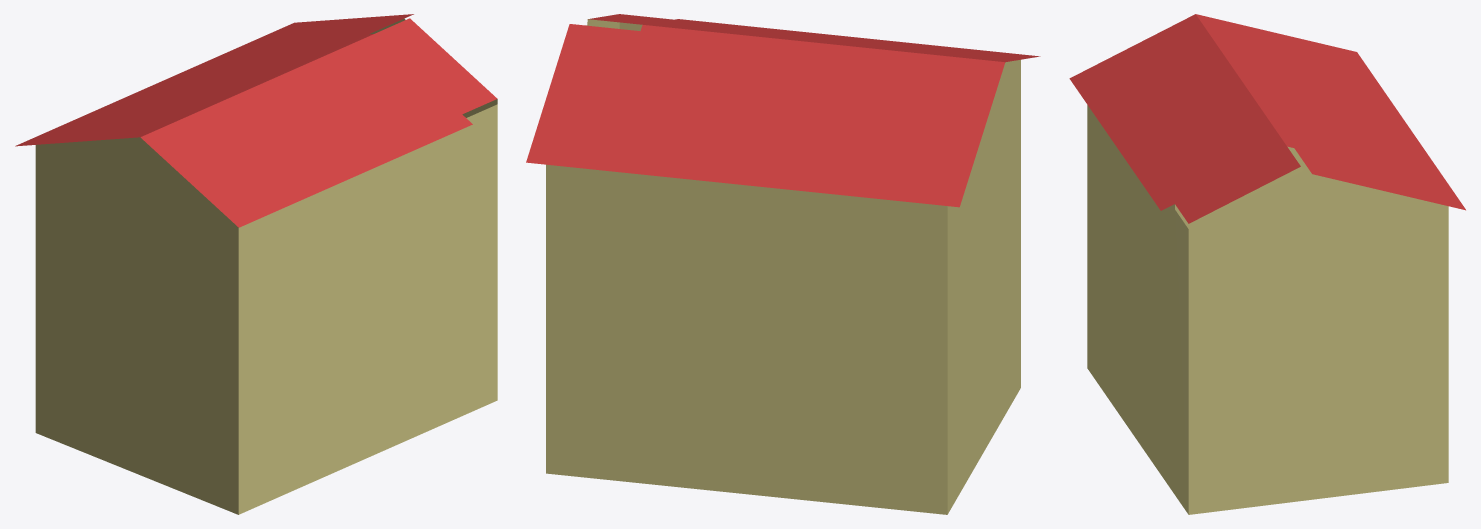
3 renders of one model, left to right at view 1: azimuth 30°, elevation 25°; view 2: azimuth 150°, elevation 25°; view 3: azimuth 270°, elevation 25°, orthographic. The views are drawn at different scales.
Size of the model in its own units: 7.59 by 6.84 by 6.35.
